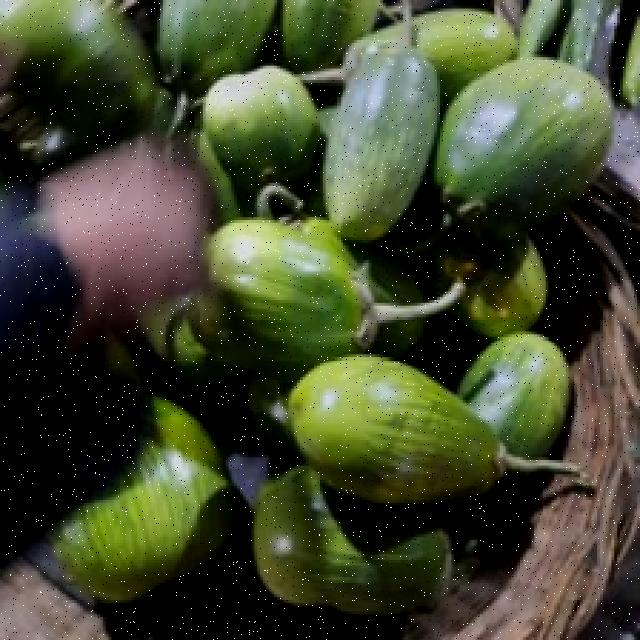Green Eggplant: (255, 305, 553, 520), (449, 29, 640, 288), (305, 8, 454, 279)
